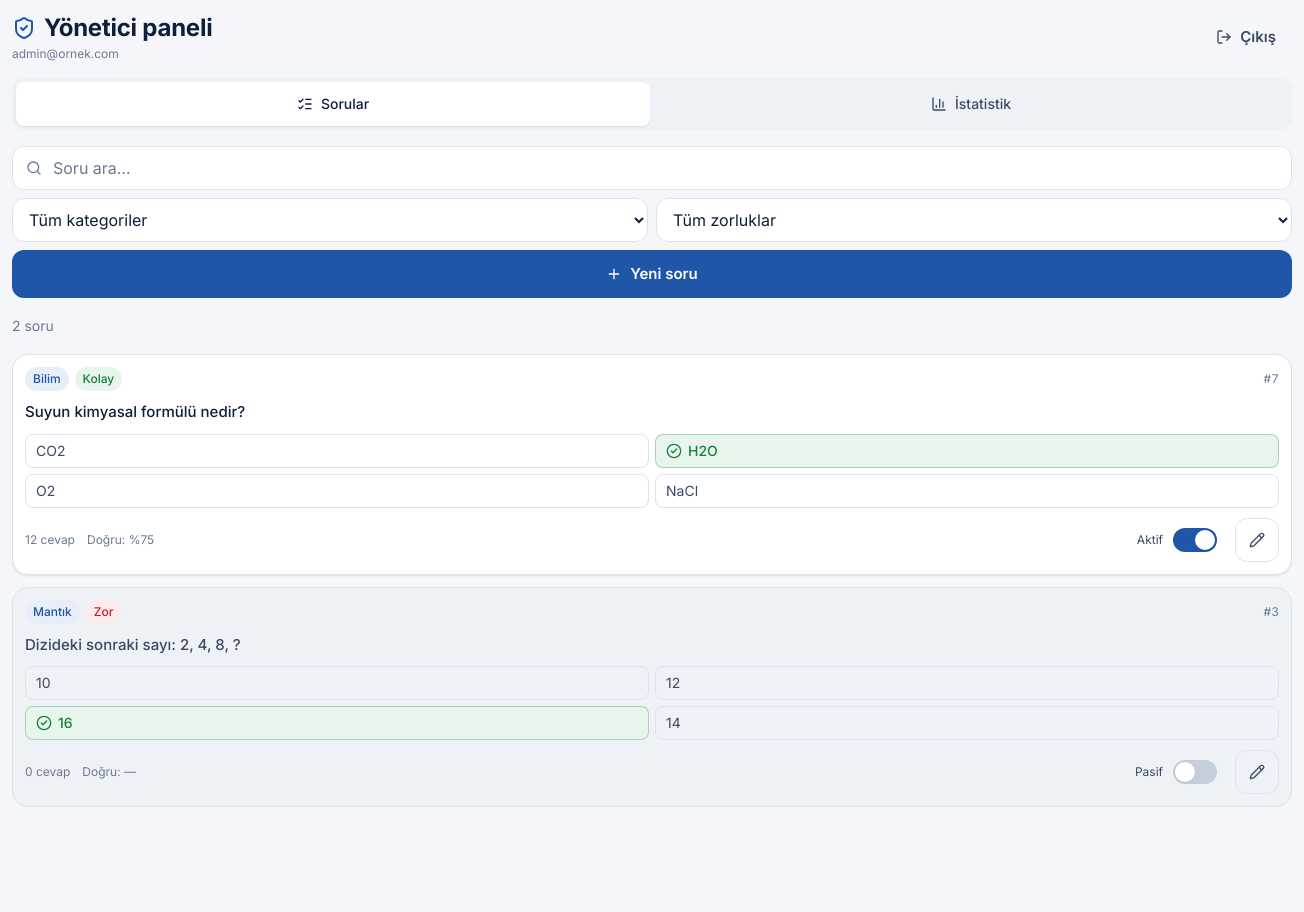
Test: AdminScreen istatistik › sayı kartlarını ve en çok yanlış yapılan soruları gösterir
Expected: the text "Suyun kimyasal formülü nedir?" is shown, left=25, top=402, right=245, bottom=421
Click the tab "İstatistik" at (971, 104), box left=654, top=82, right=1288, bottom=126
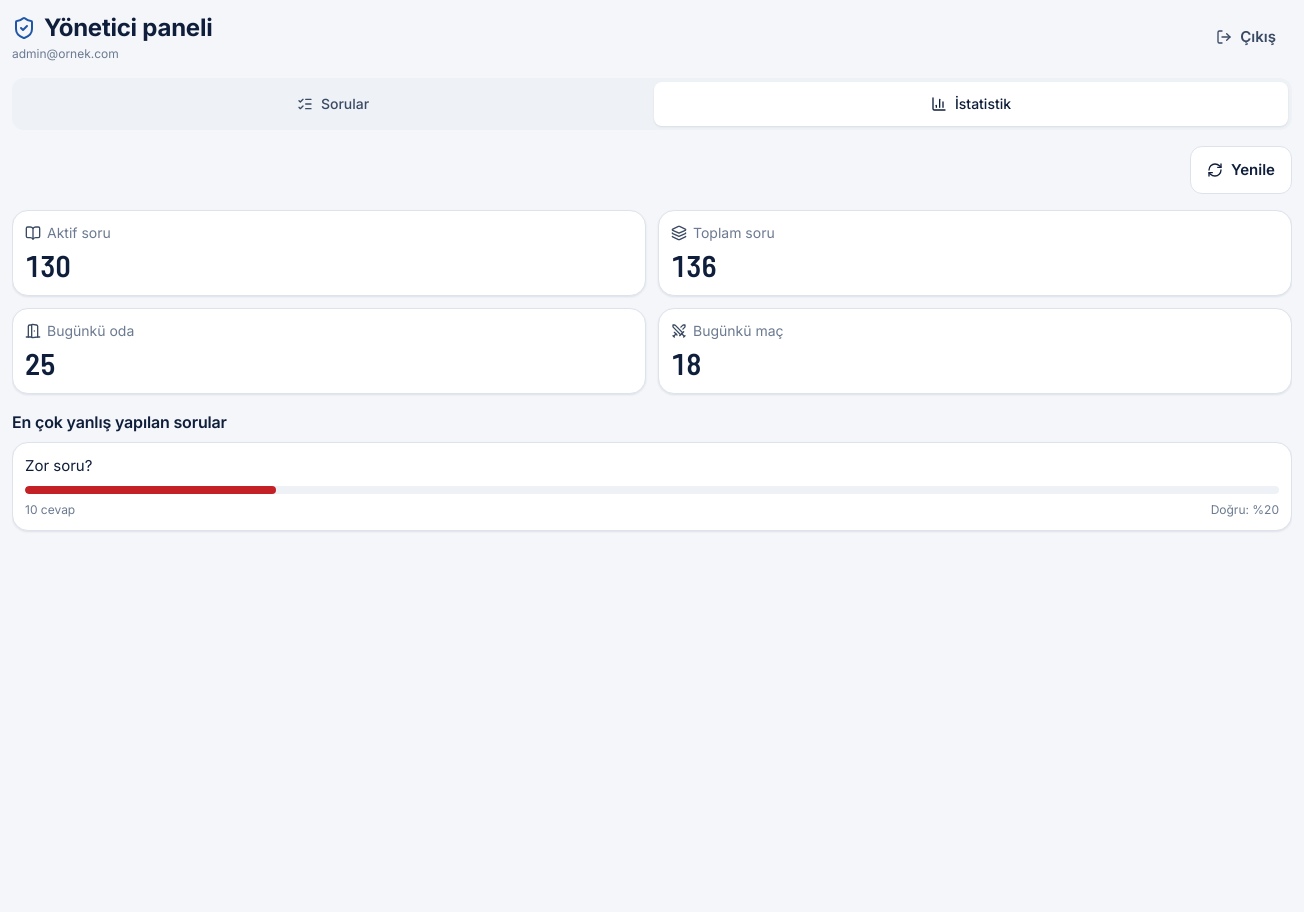
Expected: the elements with test id "stat-card" read "Aktif soru130", "Toplam soru136", "Bugünkü oda25", "Bugünkü maç18", in this order, left=12, top=210, right=646, bottom=296; left=658, top=210, right=1292, bottom=296; left=12, top=308, right=646, bottom=394; left=658, top=308, right=1292, bottom=394
Expected: the heading "En çok yanlış yapılan sorular" is shown, left=12, top=412, right=227, bottom=432
Expected: the text "Zor soru?" is shown, left=25, top=456, right=92, bottom=475
